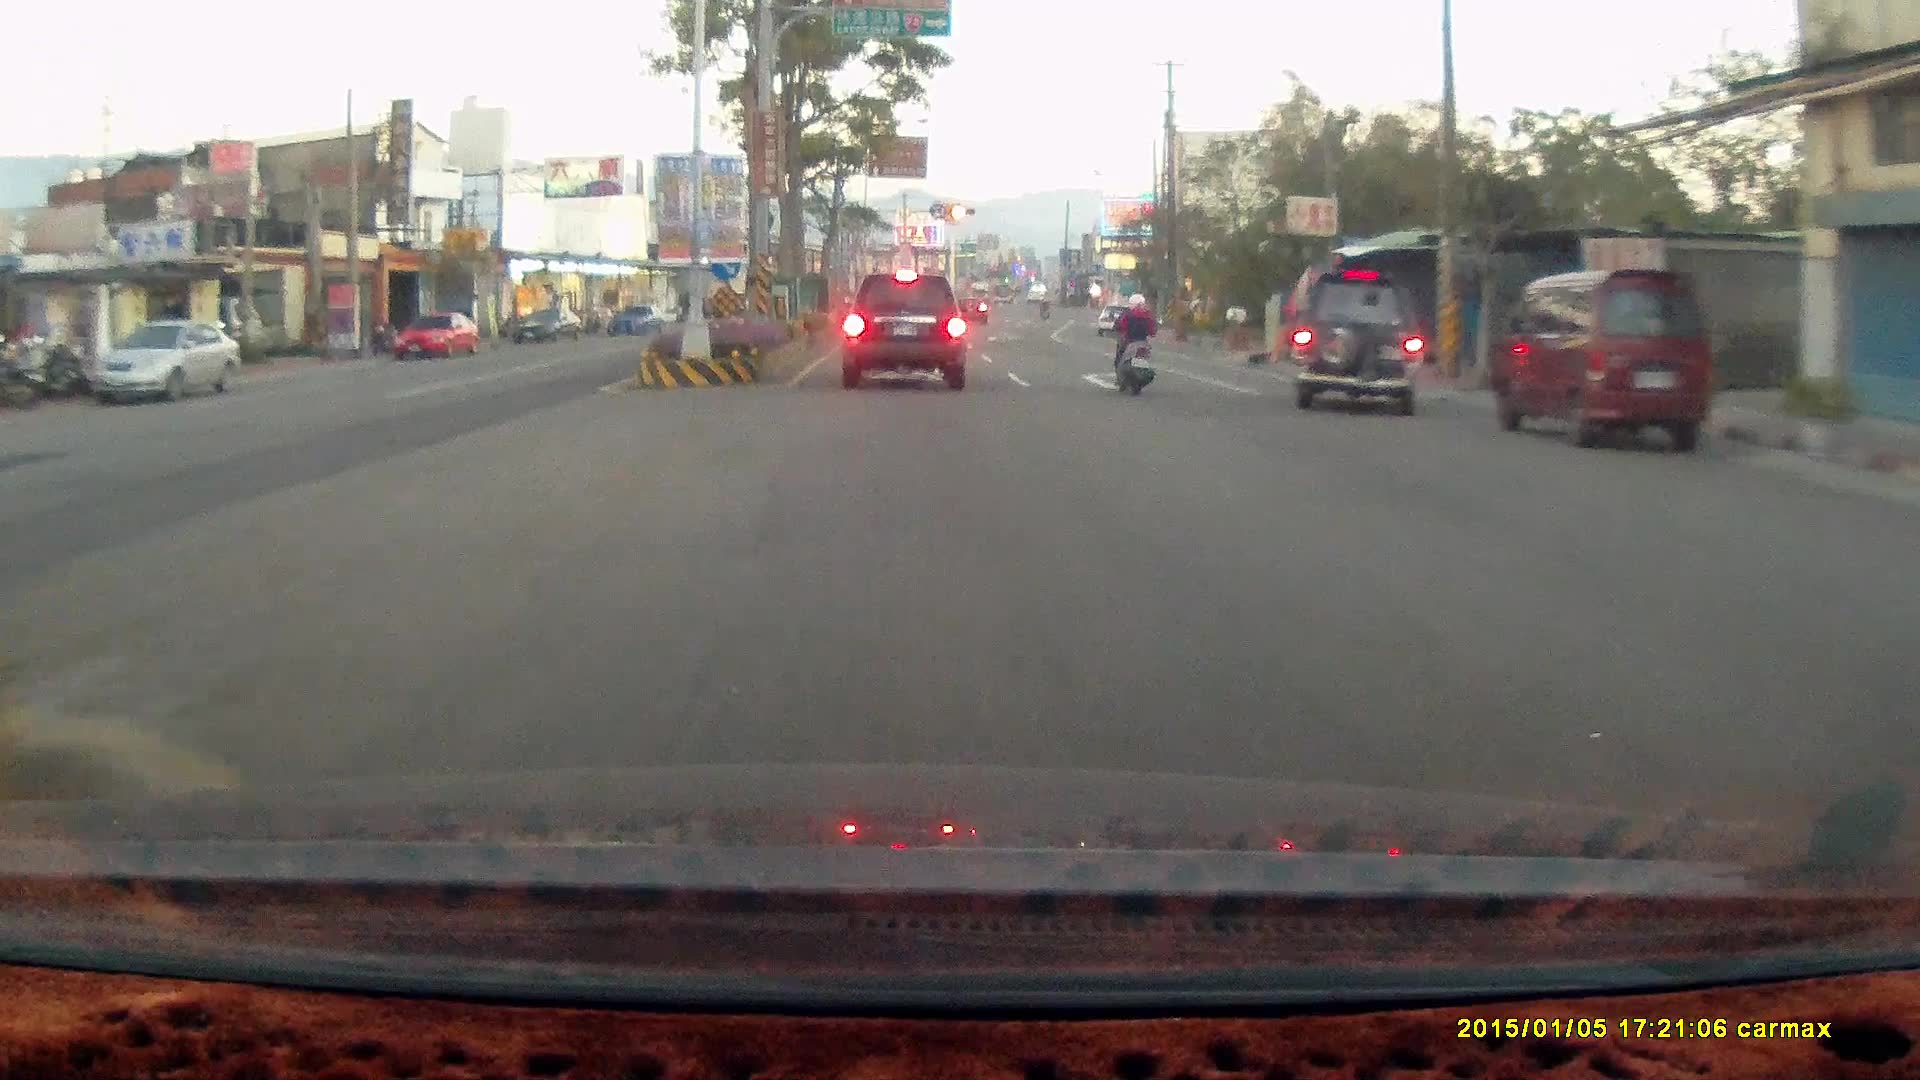rider: (1109, 288, 1158, 397)
vehicle: (1481, 264, 1712, 454), (1491, 263, 1716, 448), (1287, 265, 1434, 408), (1288, 267, 1424, 417), (840, 272, 967, 390), (88, 318, 246, 407), (88, 317, 242, 403), (1896, 493, 1920, 836), (1883, 528, 1920, 690), (394, 311, 482, 362), (391, 309, 479, 358), (1096, 301, 1142, 334)
